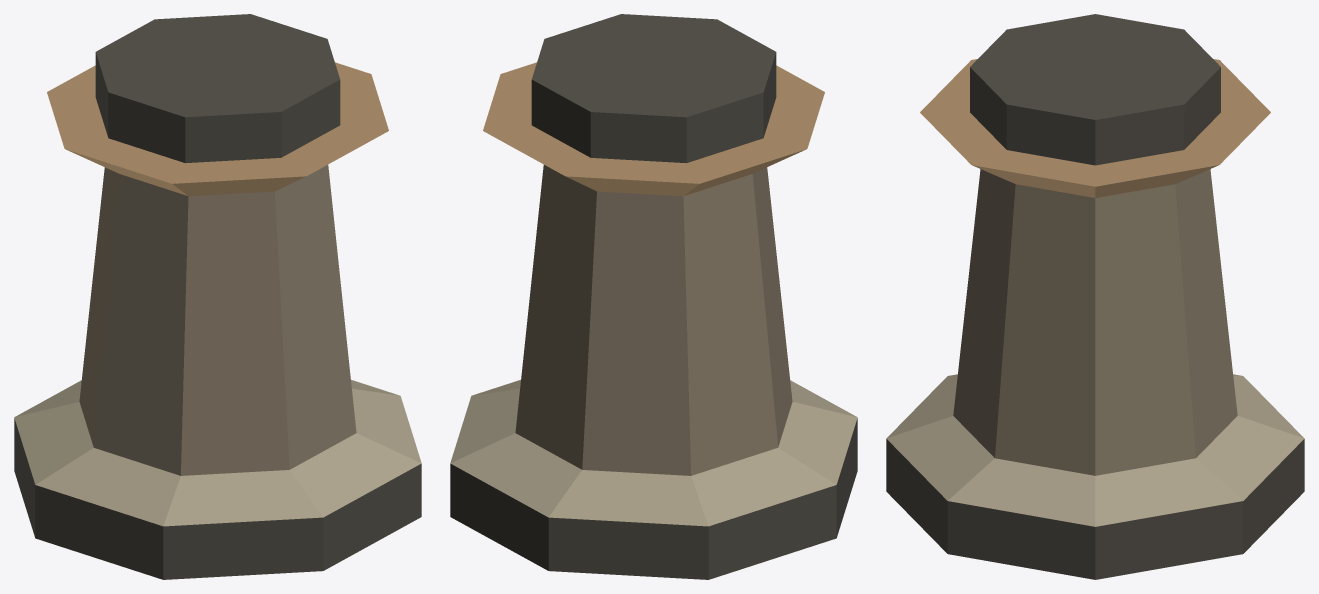
File: beacon-idle.glb
3 views of the same model, side by side, from view 1: azimuth 30°, elevation 25°; view 2: azimuth 150°, elevation 25°; view 3: azimuth 270°, elevation 25° (orthographic).
Parts seen in each view (by area): view 1: beacon-idle__body; view 2: beacon-idle__body; view 3: beacon-idle__body.
Part boxes in pixels (x1,y1,x2,y2): beacon-idle__body: (14, 14, 421, 579); beacon-idle__body: (450, 14, 857, 579); beacon-idle__body: (886, 14, 1304, 579).
Bounding box in the file's own units: 1 × 1.12 × 1.
